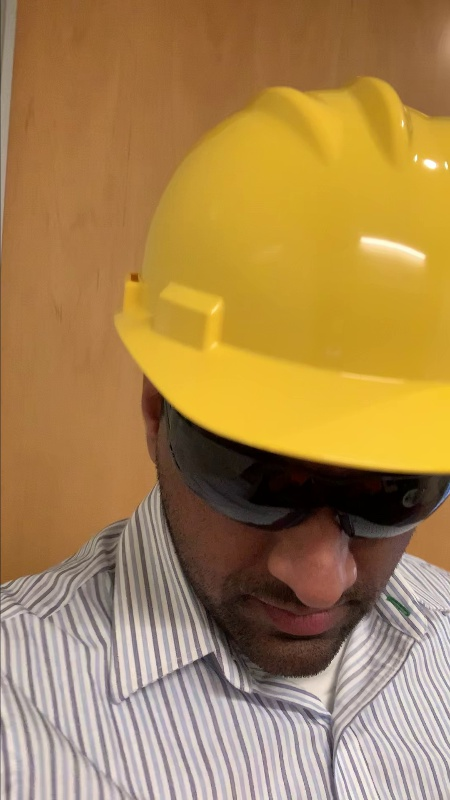glasses: (162, 404, 450, 557)
helmet: (107, 74, 450, 472)
